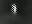person: (10, 4, 21, 19)
